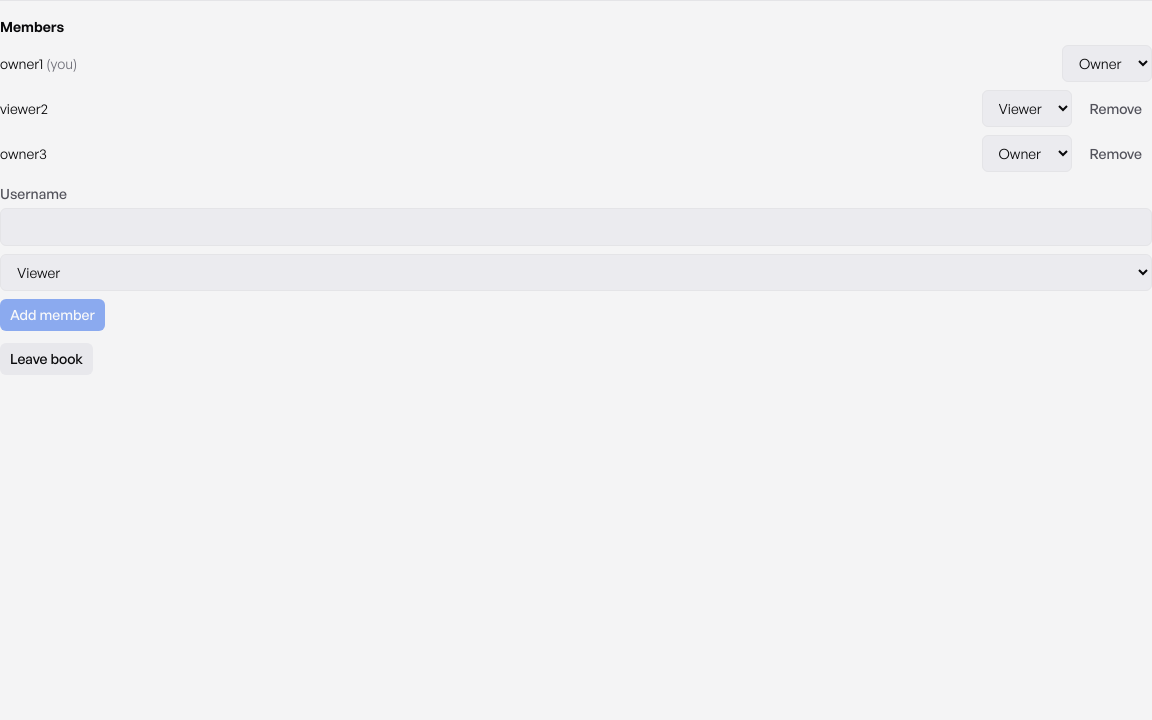
Test: BookMembersSettings › role change › asks first before it demotes another owner, and sends nothing on Cancel
Select "Editor" in the dropdown named "Role for owner3" at (1027,154), box top-left (982, 135), bottom-right (1072, 172)
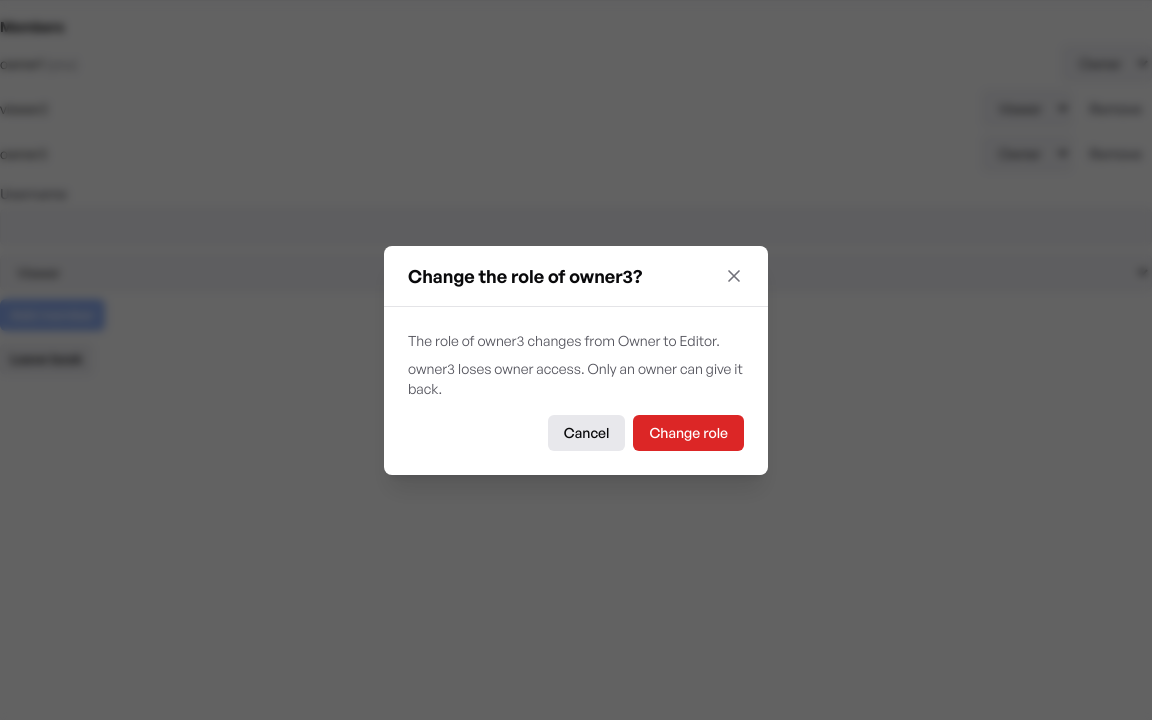
Now the heading "Change the role of owner3?" is shown, box top-left (408, 262), bottom-right (642, 290)
Click the button "Cancel".
click(587, 432)  # box top-left (548, 414), bottom-right (625, 450)
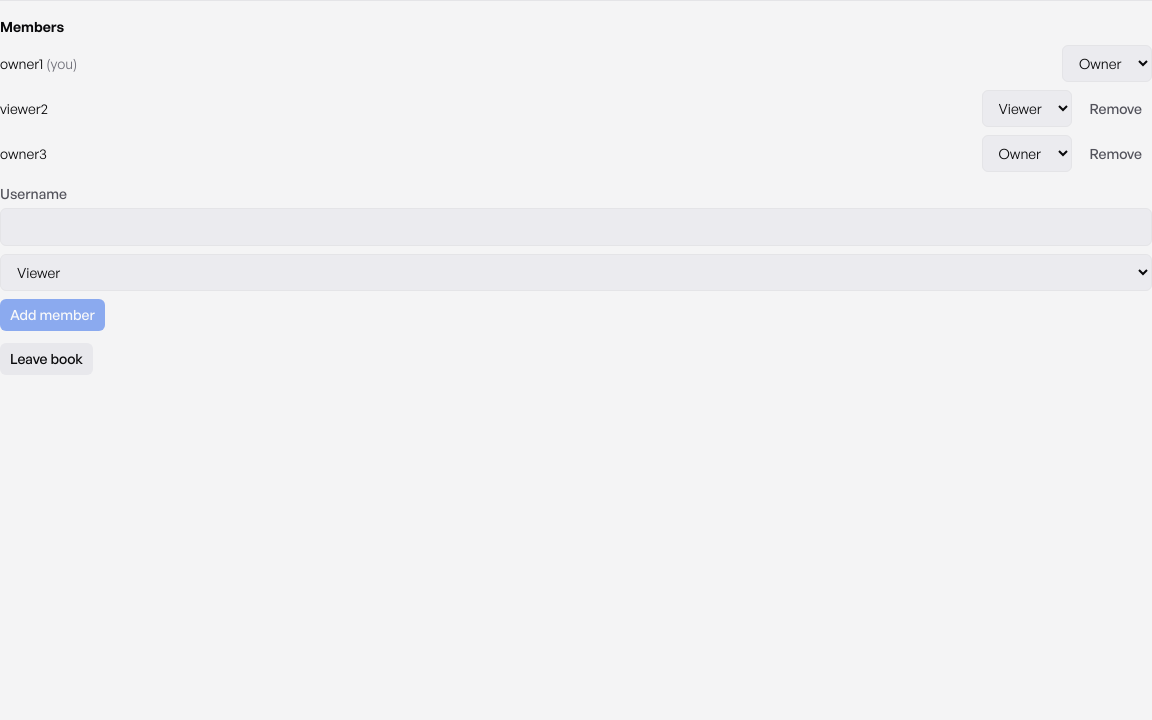
Now the heading "Change the role of owner3?" is gone
